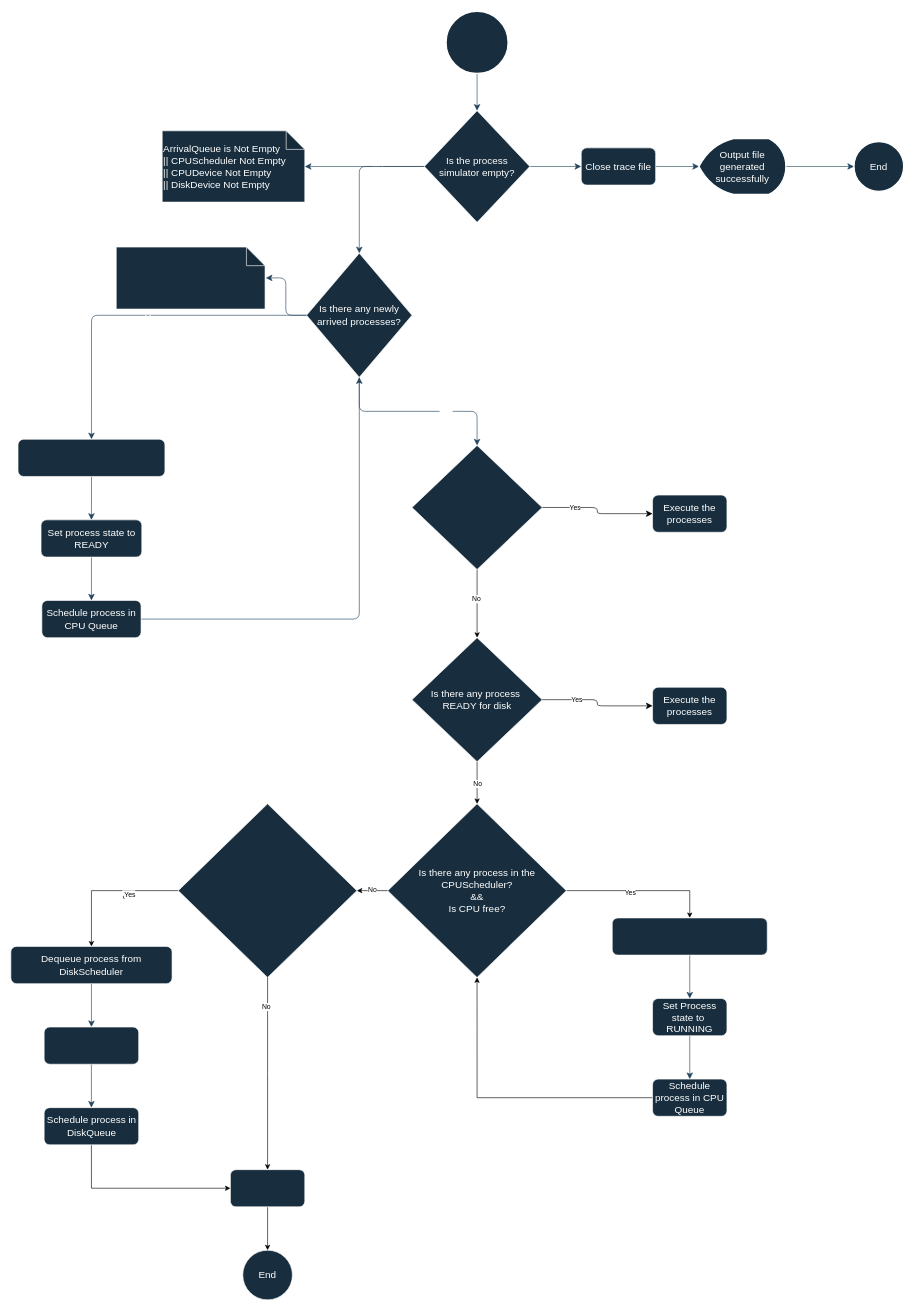
Some shapes in this 915 by 1311 pixel diagram are drawn without their labels. Each missing label, with the box of its shape:
ArrivalQueue.size > 0 && processe arrivalTime <= clock: (116, 246, 265, 309)
Dequeue process from ArrivalQueue: (17, 439, 165, 476)
Dequeue process from CPUScheduler: (612, 917, 767, 955)
Increment clock time: (230, 1169, 305, 1207)
Is there any process in the DiskScheduler? && Is disk free?: (178, 803, 357, 977)
Is there any process READY for CPU: (411, 445, 542, 569)
Set process state to WAITING: (44, 1026, 139, 1064)
Start: (445, 11, 508, 74)
